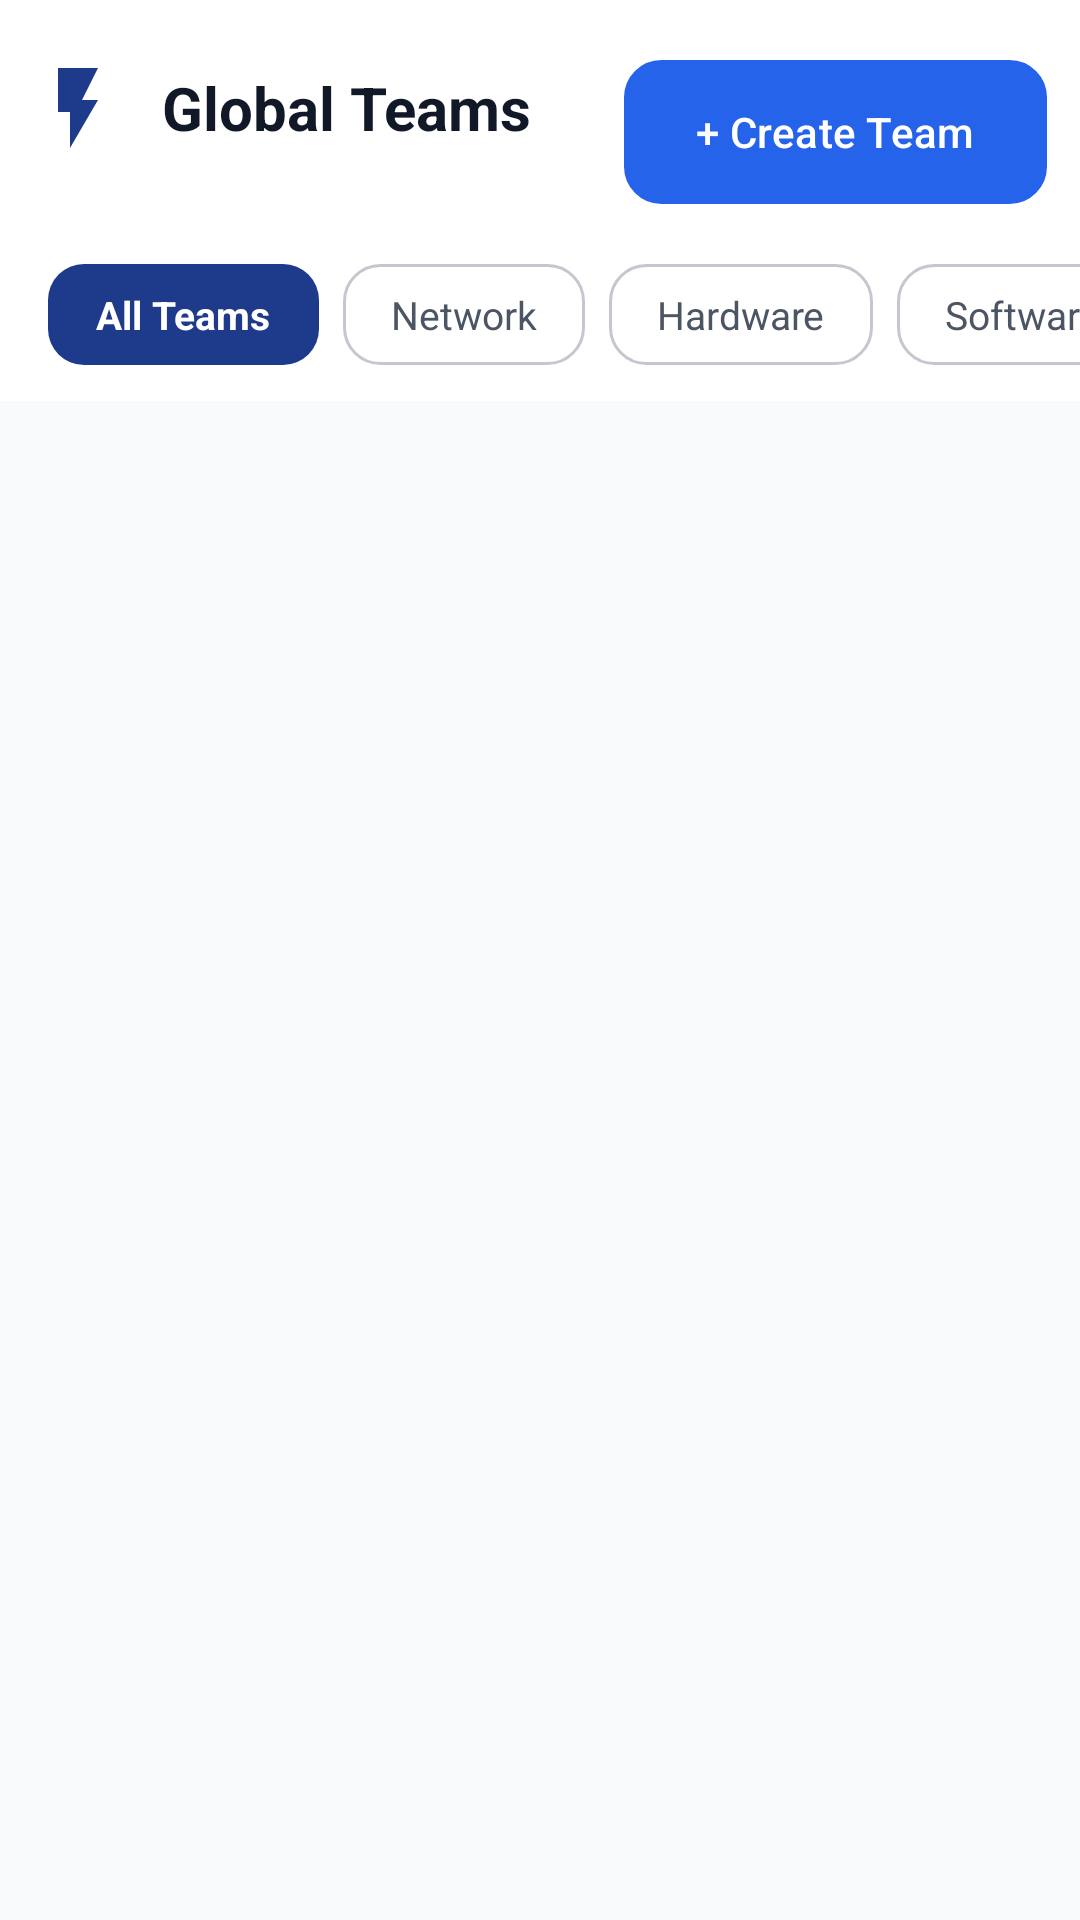

Screen size 1080*1920. Icon name, then its box in pixels as region(x1, y1, x2, y2):
lightning bolt: region(58, 68, 98, 148)
